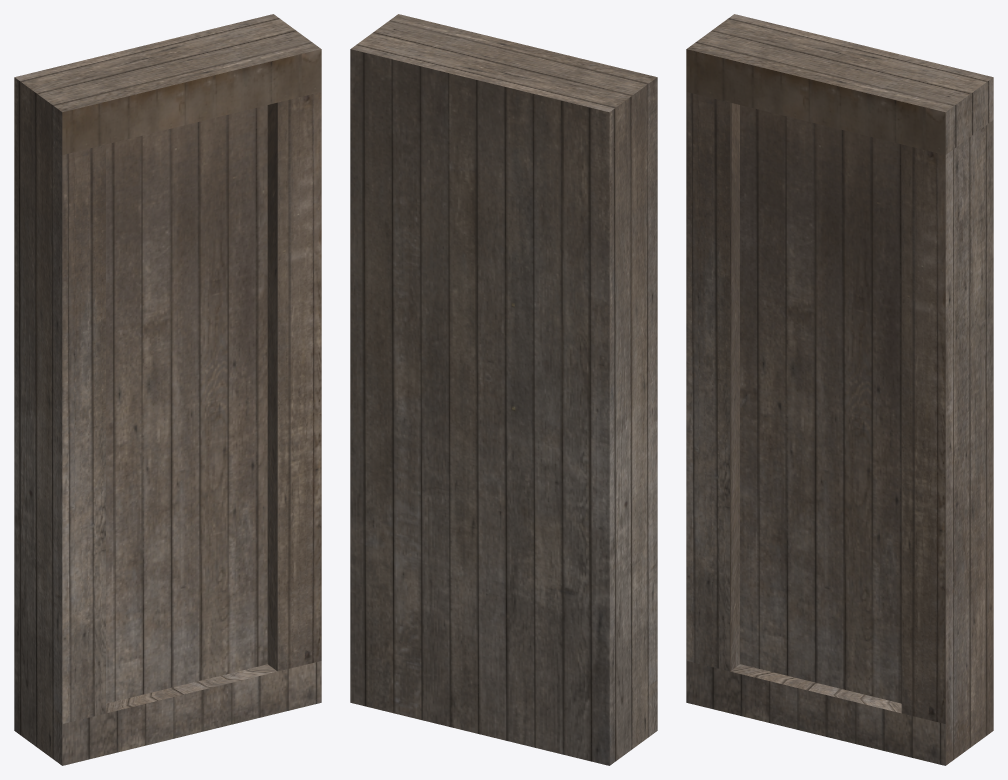
Rendered from Door_R_v2.fbx.
3 renders of one model, left to right at view 1: azimuth 30°, elevation 25°; view 2: azimuth 150°, elevation 25°; view 3: azimuth 330°, elevation 25°, orthographic.
Visible parts, largest first — view 1: Door_R; view 2: Door_R; view 3: Door_R.
Boxes of the visible parts, x1,y1,x2,y2 form: Door_R: (14,14,321,765); Door_R: (350,14,657,765); Door_R: (686,14,993,765).
Size of the model in its own units: 78.82 by 190 by 25.27.
